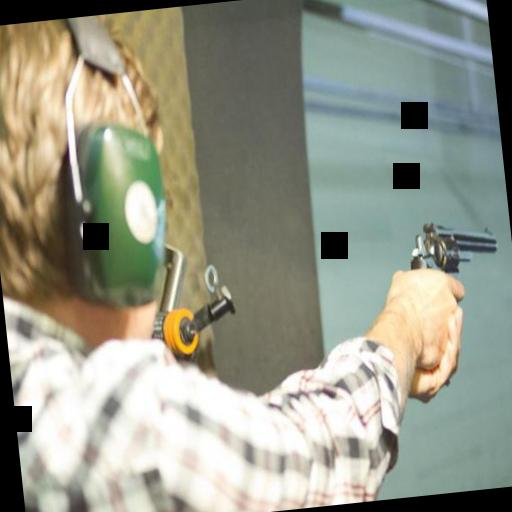Handgun: (402, 209, 500, 285)
